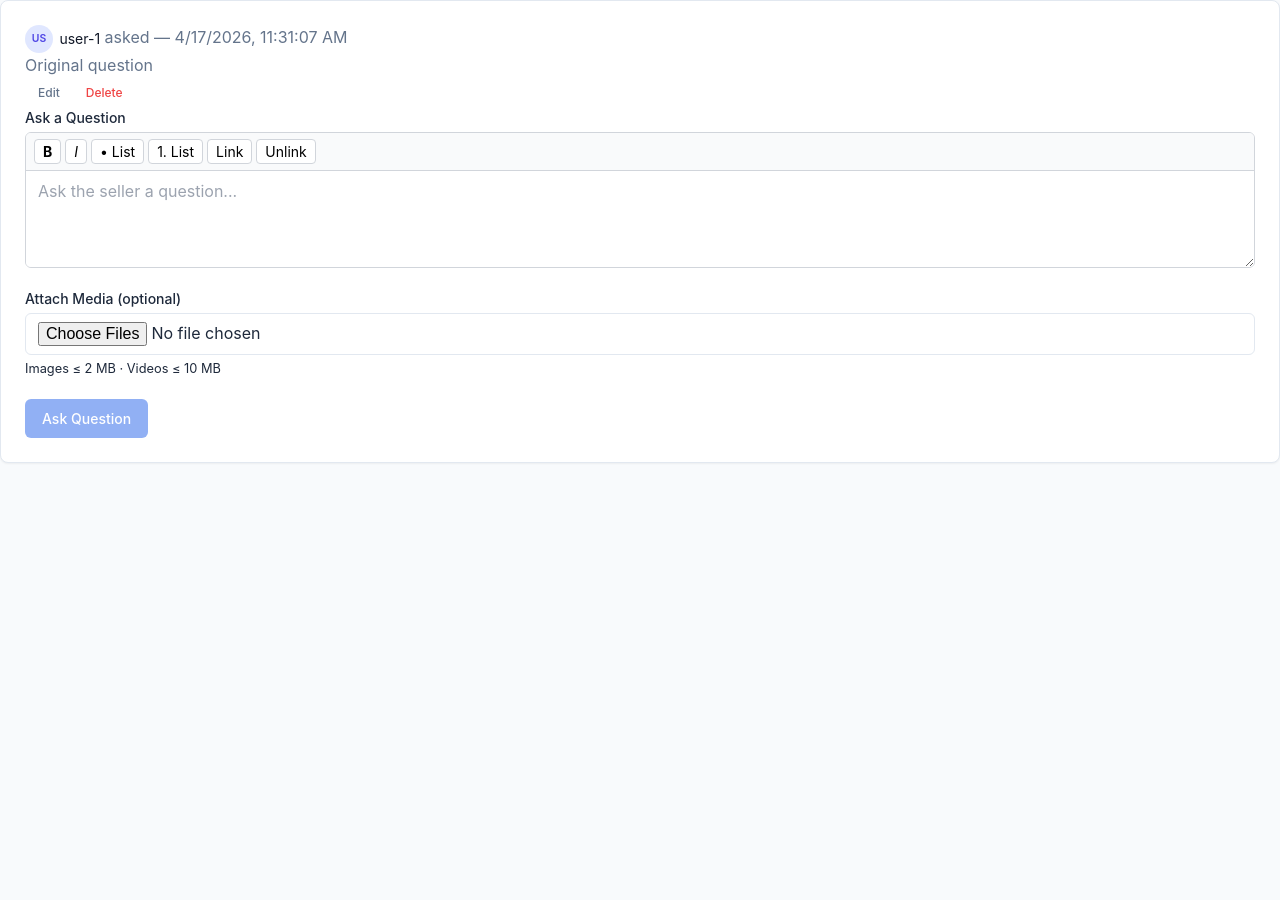
Test: ListingQA — edit modal › opens edit modal when Edit is clicked
What coordinates should you click on to do the following:
click the button "Edit"
I would click on:
 (49, 93)
Its box is [25,79,73,107].
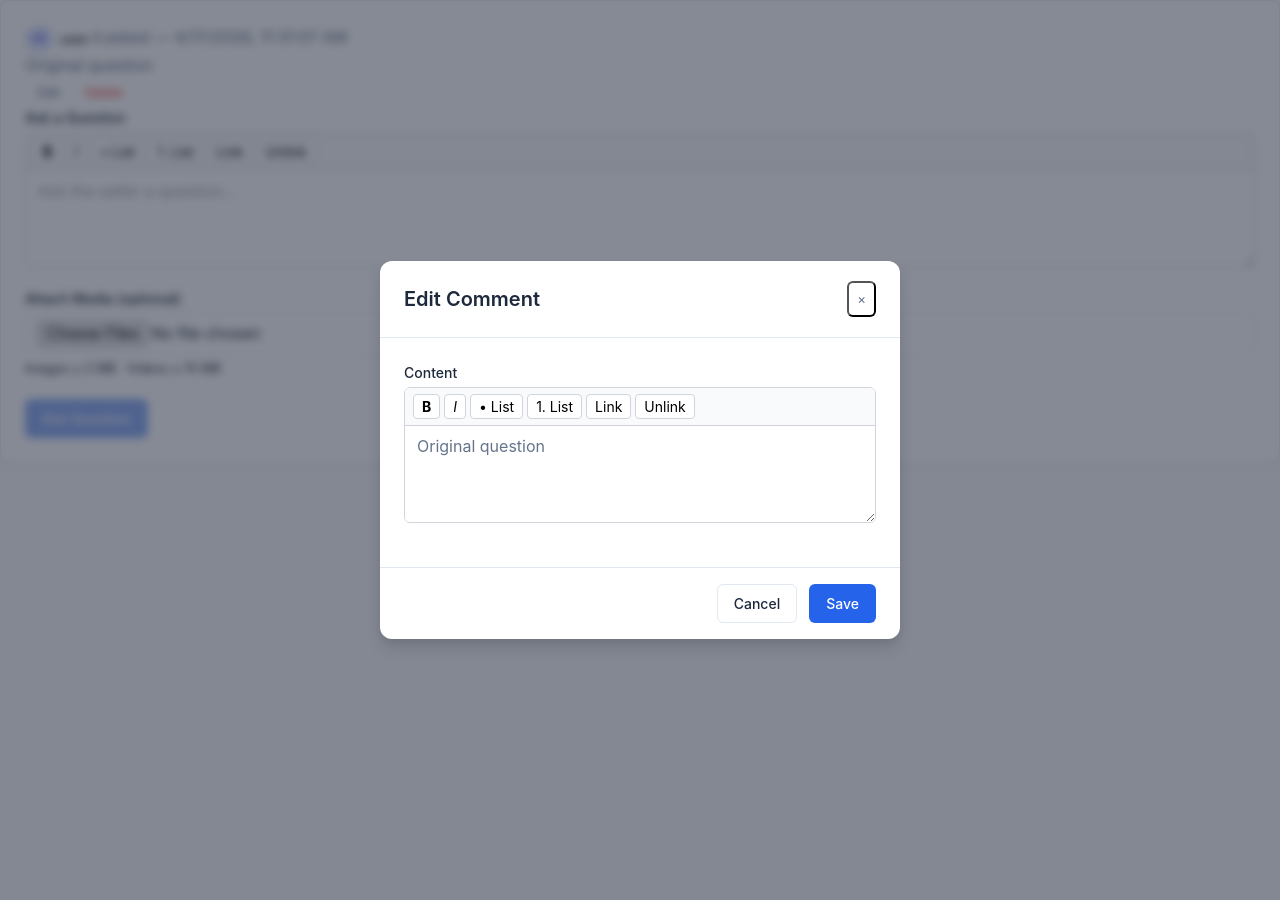
Expected: the text "Edit Comment" is shown, [404,285,540,313]
